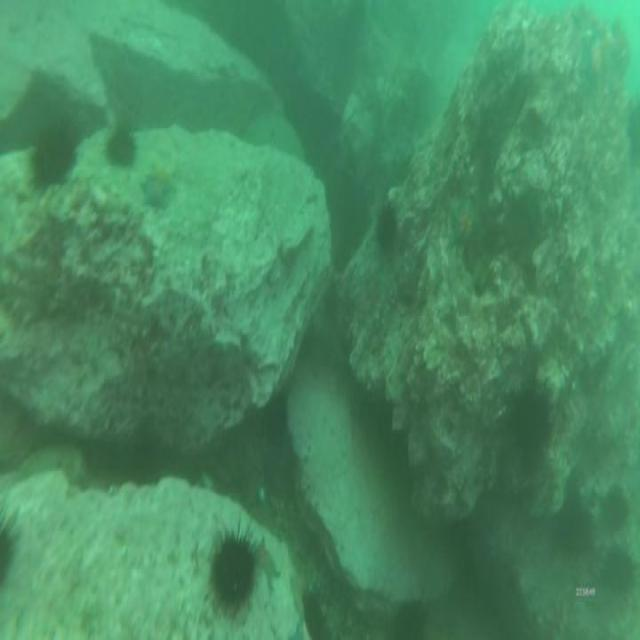echinus: (214, 539, 254, 600), (554, 498, 592, 556), (514, 389, 548, 450), (32, 128, 68, 180), (602, 548, 634, 594), (600, 484, 629, 531), (107, 130, 134, 168), (375, 207, 394, 245)
starfish: (449, 204, 480, 250), (138, 177, 170, 209)
